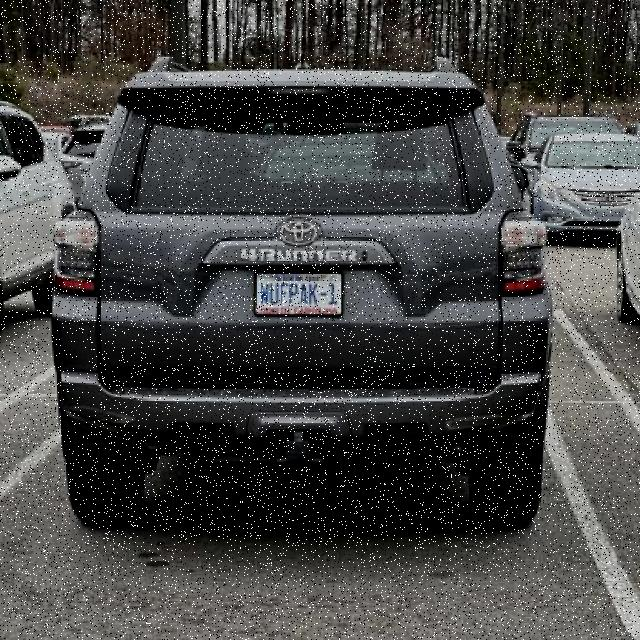licenseplate: (253, 271, 345, 318)
